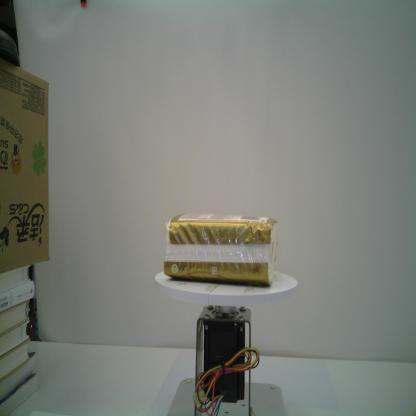Tissue: (163, 212, 278, 287)
